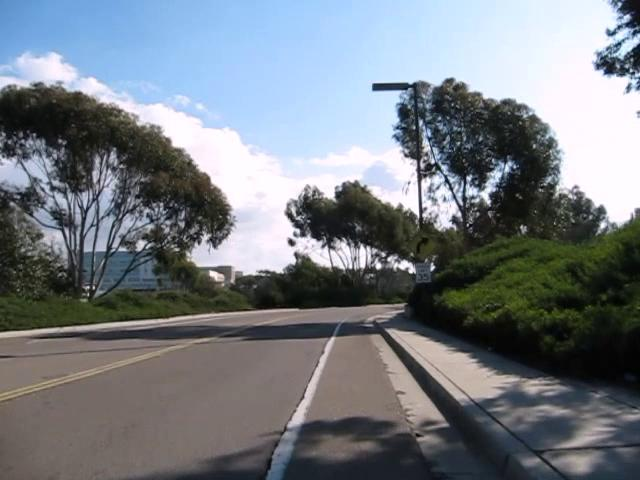speedLimit35: (414, 261, 431, 282)
